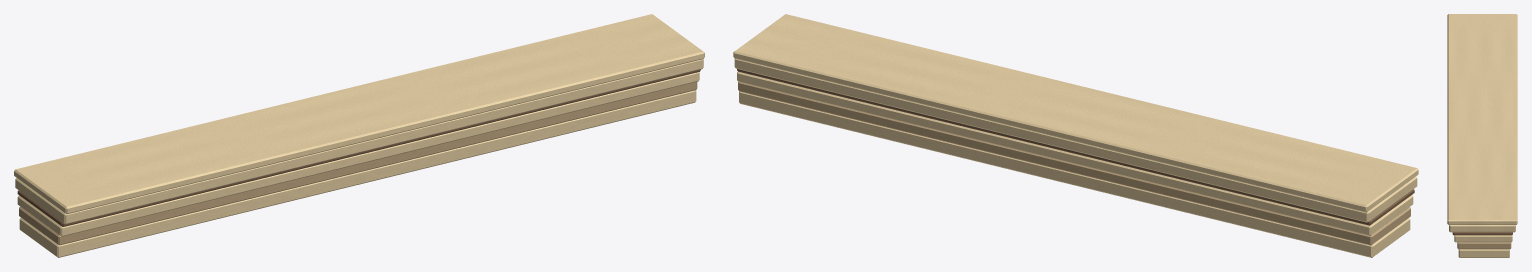
The model's file is PMU_Corniche_16.glb.
3 renders of one model, left to right at view 1: azimuth 30°, elevation 25°; view 2: azimuth 150°, elevation 25°; view 3: azimuth 270°, elevation 25°, orthographic. The views are drawn at different scales.
Parts seen in each view (by area): view 1: PMU_Corniche_16; view 2: PMU_Corniche_16; view 3: PMU_Corniche_16.
Part boxes in pixels (box(x1,y1,x2,y2)): PMU_Corniche_16: box(14, 14, 704, 257); PMU_Corniche_16: box(733, 14, 1418, 257); PMU_Corniche_16: box(1447, 14, 1517, 257).
Size of the model in its own units: 16 by 1.37 by 2.29.
1 material, 1 textured.
